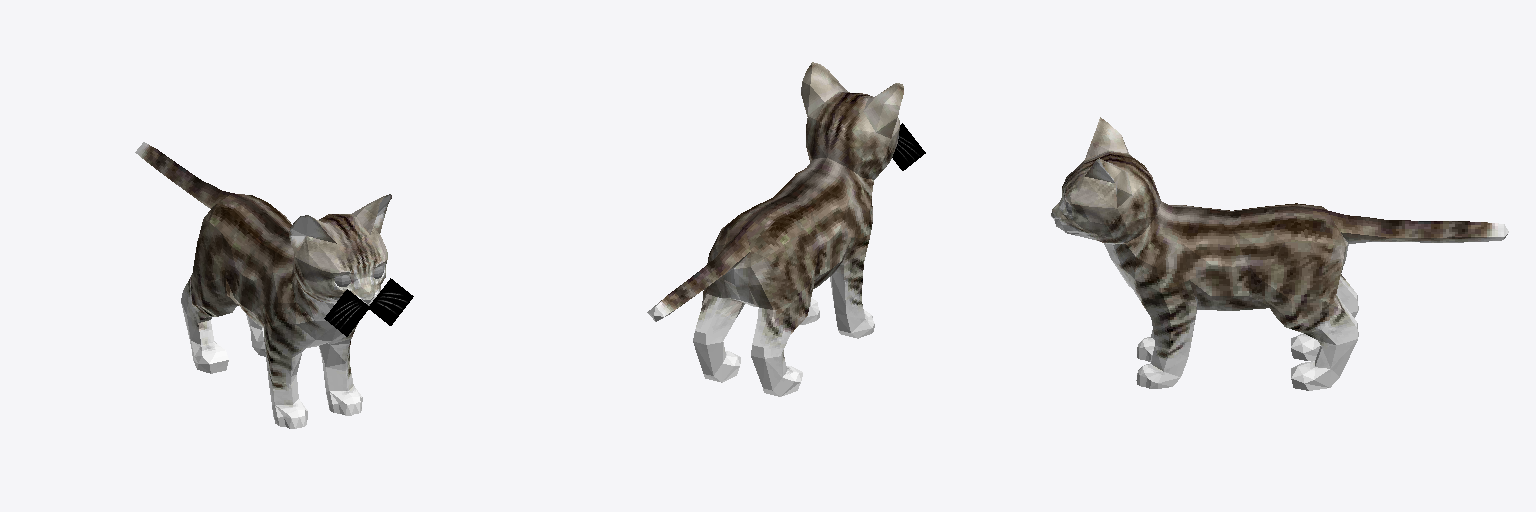
3 views of the same model, side by side, from view 1: azimuth 30°, elevation 25°; view 2: azimuth 150°, elevation 25°; view 3: azimuth 270°, elevation 25° (orthographic).
Parts seen in each view (by area): view 1: vsn_mesh_2__mesh_2_.001; view 2: vsn_mesh_2__mesh_2_.001; view 3: vsn_mesh_2__mesh_2_.001.
Boxes of the visible parts, x1,y1,x2,y2 form: vsn_mesh_2__mesh_2_.001: [135, 142, 413, 428]; vsn_mesh_2__mesh_2_.001: [647, 62, 925, 396]; vsn_mesh_2__mesh_2_.001: [1051, 117, 1508, 390].
Size of the model in its own units: 1.5 by 3.4 by 6.04.
4 materials, 2 textured.